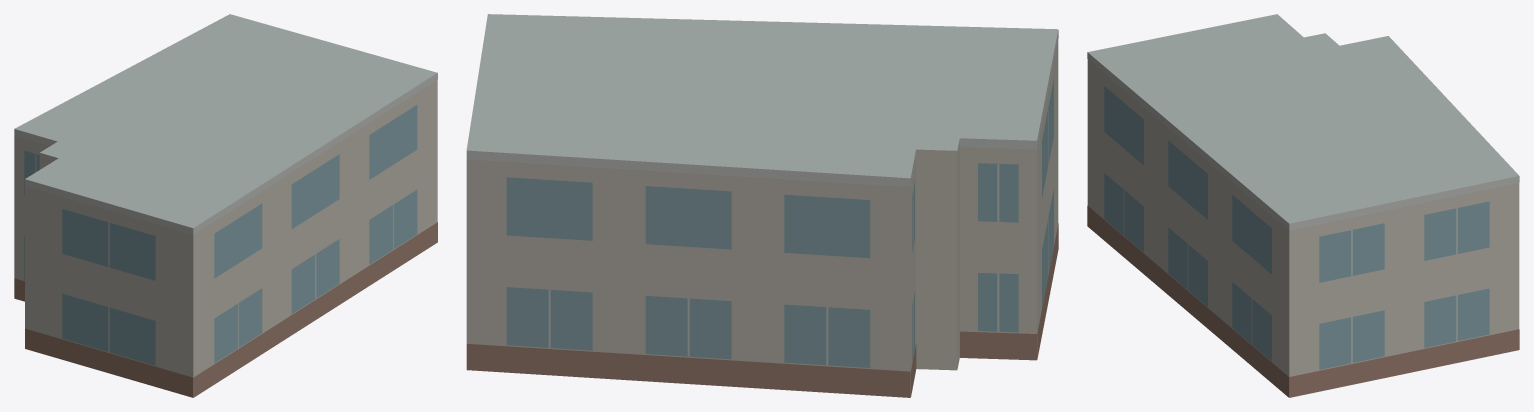
The model's file is survey-upis-32777702.glb.
3 renders of one model, left to right at view 1: azimuth 30°, elevation 25°; view 2: azimuth 150°, elevation 25°; view 3: azimuth 270°, elevation 25°, orthographic. The views are drawn at different scales.
Visible parts, largest first — view 1: survey-upis-32777702.tmp; view 2: survey-upis-32777702.tmp; view 3: survey-upis-32777702.tmp.
Boxes of the visible parts, box(x1,y1,x2,y2) form: survey-upis-32777702.tmp: box(14, 14, 437, 397); survey-upis-32777702.tmp: box(466, 14, 1058, 397); survey-upis-32777702.tmp: box(1087, 14, 1519, 397).
Bounding box in the file's own units: 15.76 × 6.1 × 13.72.
